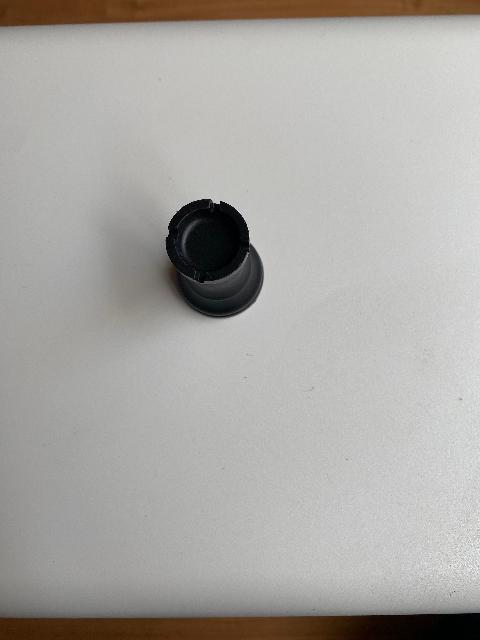black-rook: (164, 197, 264, 317)
